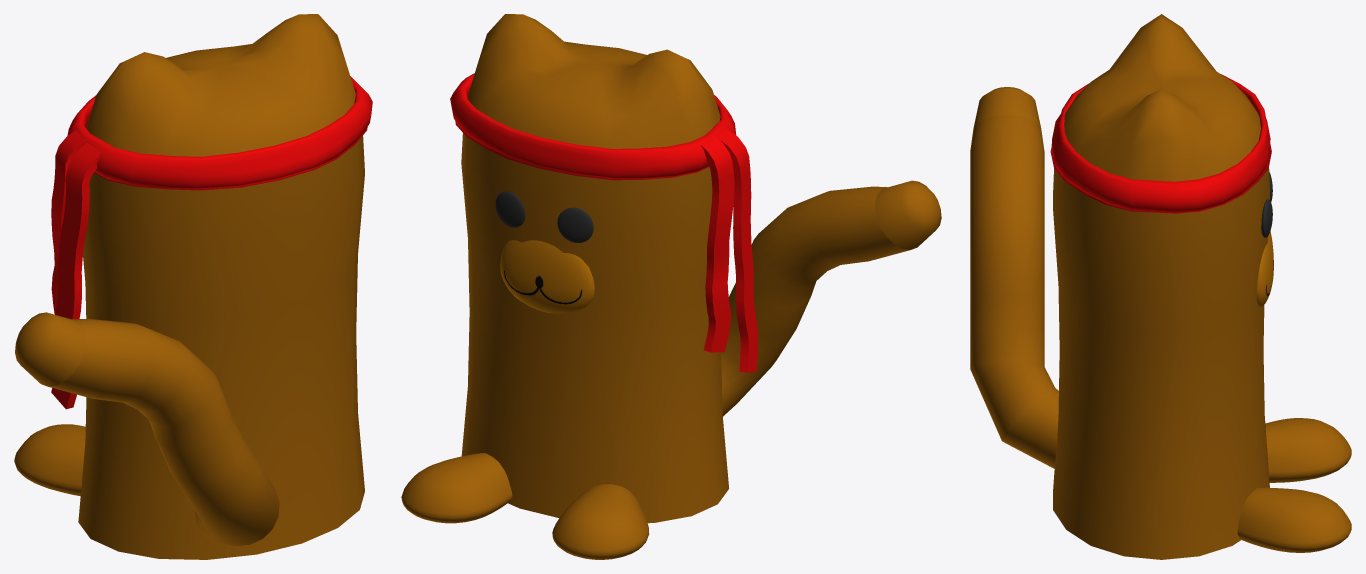
The model's file is Warrior.FBX.
3 renders of one model, left to right at view 1: azimuth 30°, elevation 25°; view 2: azimuth 150°, elevation 25°; view 3: azimuth 270°, elevation 25°, orthographic. The views are drawn at different scales.
Visible parts, largest first — view 1: Cylinder001, Cylinder002, Torus001, Box002, Sphere002, Box001; view 2: Cylinder001, Cylinder002, Torus001, Sphere001, Sphere002, Sphere006, Box001, Box002, Sphere005, Sphere003; view 3: Cylinder001, Cylinder002, Torus001, Sphere001, Sphere002, Sphere006.
Part boxes in pixels (x1,y1,x2,y2): Cylinder001: (78,14,364,559); Cylinder002: (15,312,279,545); Torus001: (67,76,372,190); Box002: (51,142,101,409); Sphere002: (14,424,85,496); Box001: (51,130,89,314); Cylinder001: (461,14,728,523); Cylinder002: (721,180,941,416); Torus001: (450,73,736,180); Sphere001: (401,453,512,523); Sphere002: (552,484,649,559); Sphere006: (500,240,594,313); Box001: (700,134,734,352); Box002: (717,128,758,372); Sphere005: (557,207,593,242); Sphere003: (495,191,525,227); Cylinder001: (1053,14,1269,559); Cylinder002: (970,87,1058,468); Torus001: (1050,74,1271,213); Sphere001: (1237,487,1351,552); Sphere002: (1265,418,1351,482); Sphere006: (1256,231,1273,306).
Bounding box in the file's own units: 57.9 × 63.16 × 48.04.
Materials: 10 (10 with a texture image).
